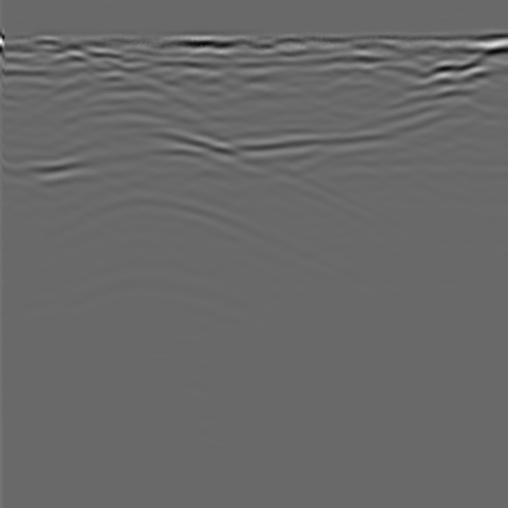hyperbola: (23, 105, 295, 248)
